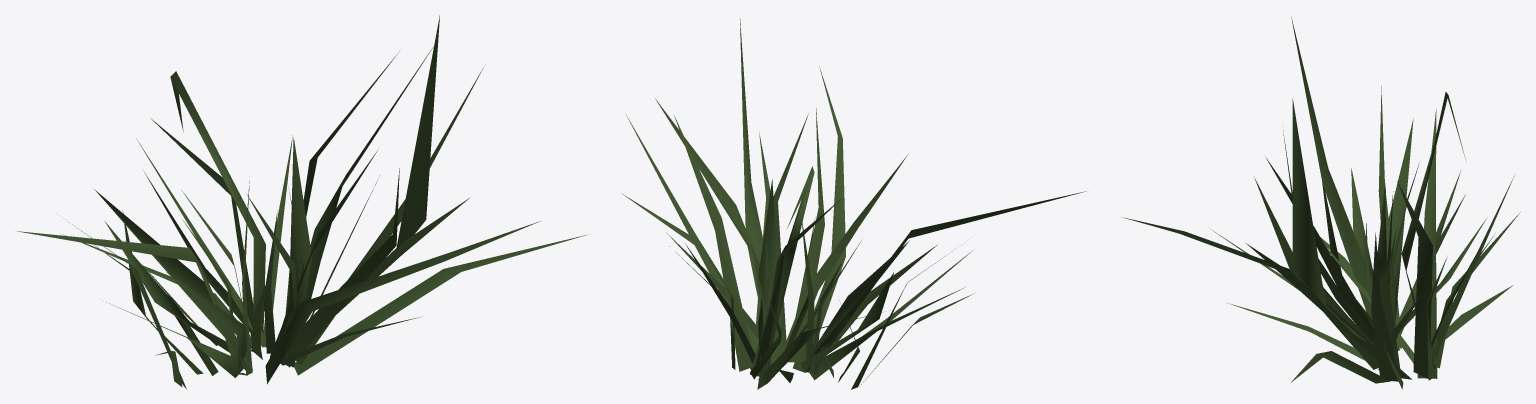
File: Grass 3.fbx
3 views of the same model, side by side, from view 1: azimuth 30°, elevation 25°; view 2: azimuth 150°, elevation 25°; view 3: azimuth 270°, elevation 25° (orthographic). The views are drawn at different scales.
Parts seen in each view (by area): view 1: Grass 3; view 2: Grass 3; view 3: Grass 3.
Part boxes in pixels (x1,y1,x2,y2): Grass 3: (17,15,587,389); Grass 3: (622,18,1085,389); Grass 3: (1122,17,1520,389).
Bounding box in the file's own units: 81.13 × 50.3 × 56.33.
